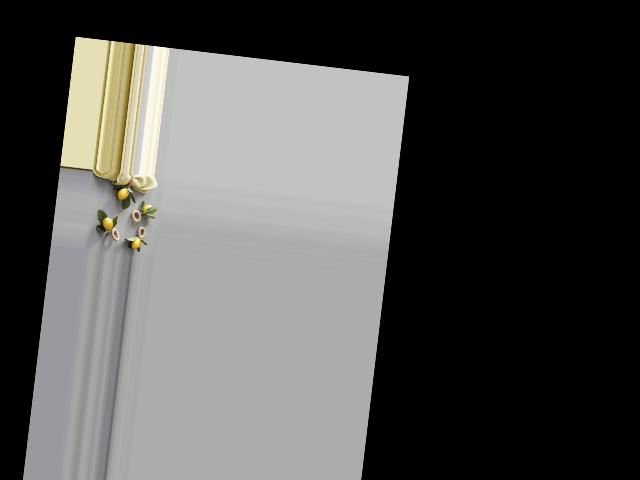lemon: (127, 234, 141, 252)
